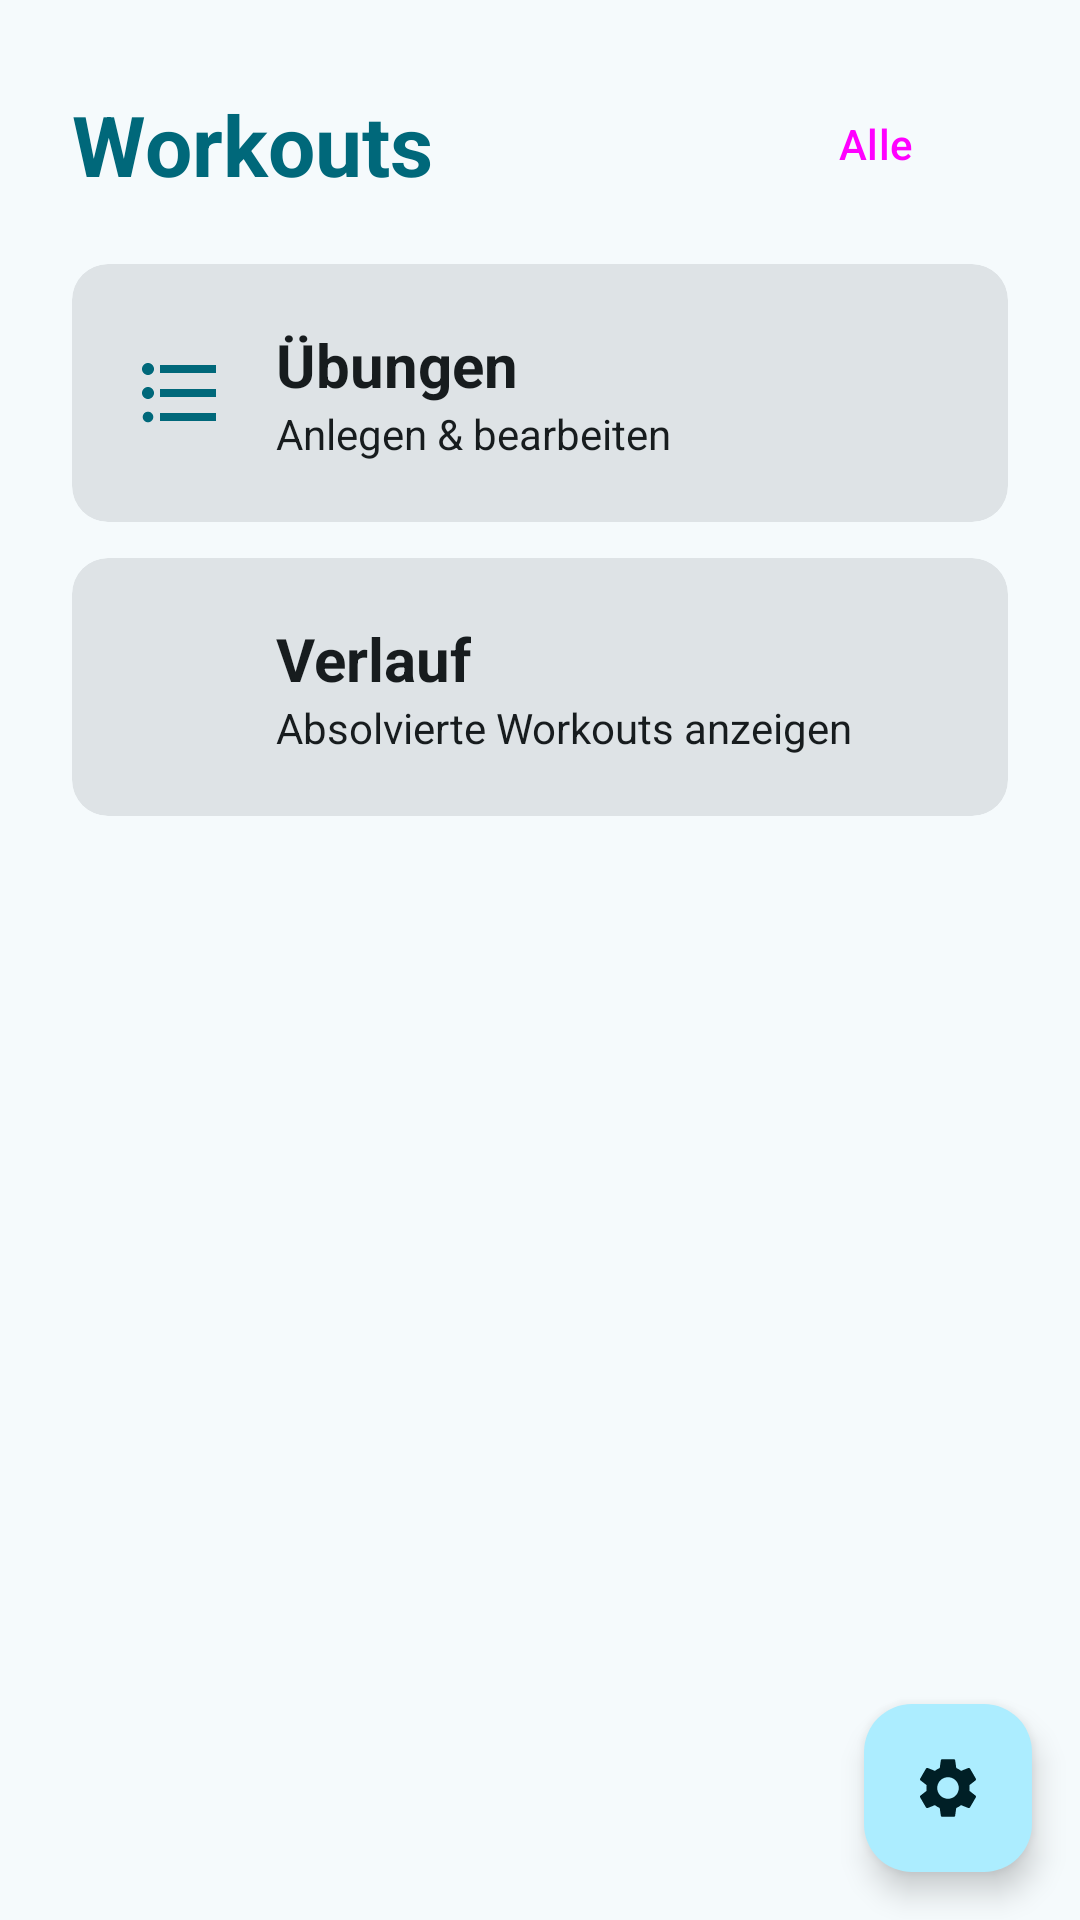

Icons on this 1080 × 1920 Android screen, each with its box as (left=x1, top=y1, right=x2, bottom=y2):
Einstellungen: (left=864, top=1704, right=1032, bottom=1872)
list: (left=142, top=363, right=216, bottom=423)
